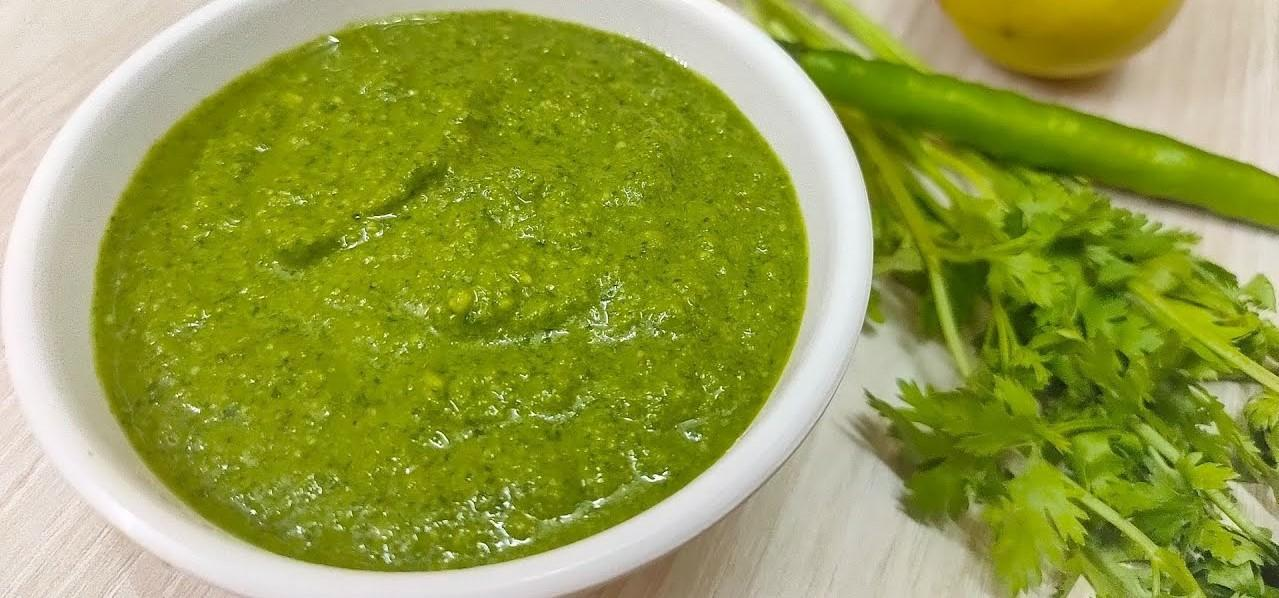GreenChutney: (92, 8, 806, 573)
